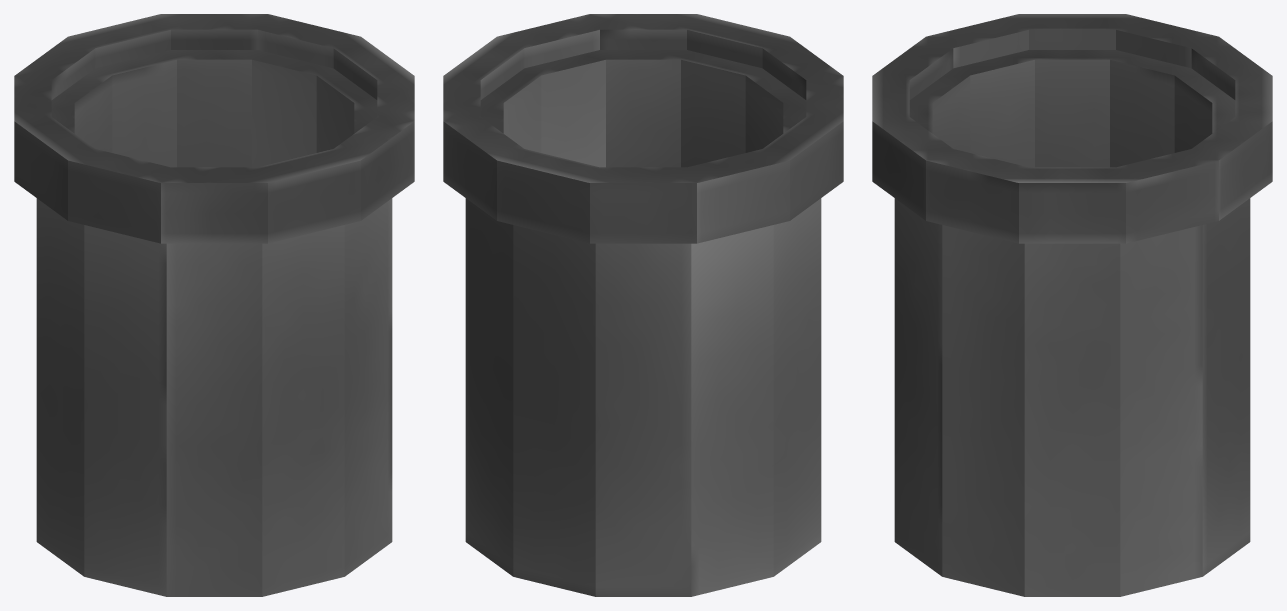
File: Lixo.fbx
The picture shows the model from 3 angles, left to right: view 1: azimuth 30°, elevation 25°; view 2: azimuth 150°, elevation 25°; view 3: azimuth 270°, elevation 25°; orthographic projection.
Visible parts, largest first — view 1: tube, tube.001; view 2: tube, tube.001; view 3: tube, tube.001.
Part boxes in pixels (x1,y1,x2,y2): tube: (36,50,392,596); tube.001: (14,14,414,243); tube: (465,50,821,596); tube.001: (443,14,843,243); tube: (894,50,1250,596); tube.001: (872,14,1272,243).
Size of the model in its own units: 112 by 131 by 112.
1 material, 1 textured.
